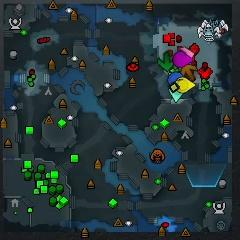p1: (168, 72, 184, 86)
p2: (169, 89, 184, 103)
p3: (174, 51, 194, 67)
p4: (176, 78, 197, 93)
x1: (180, 47, 194, 57)
x4: (158, 52, 175, 71)
x5: (181, 63, 198, 80)
